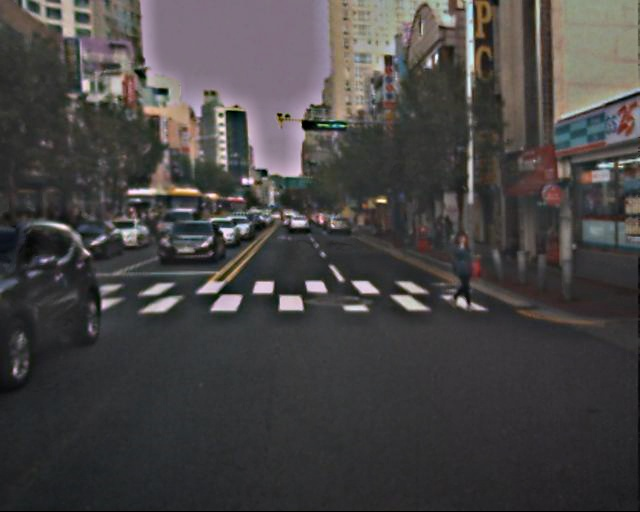person: (444, 230, 478, 313), (421, 217, 457, 249)
